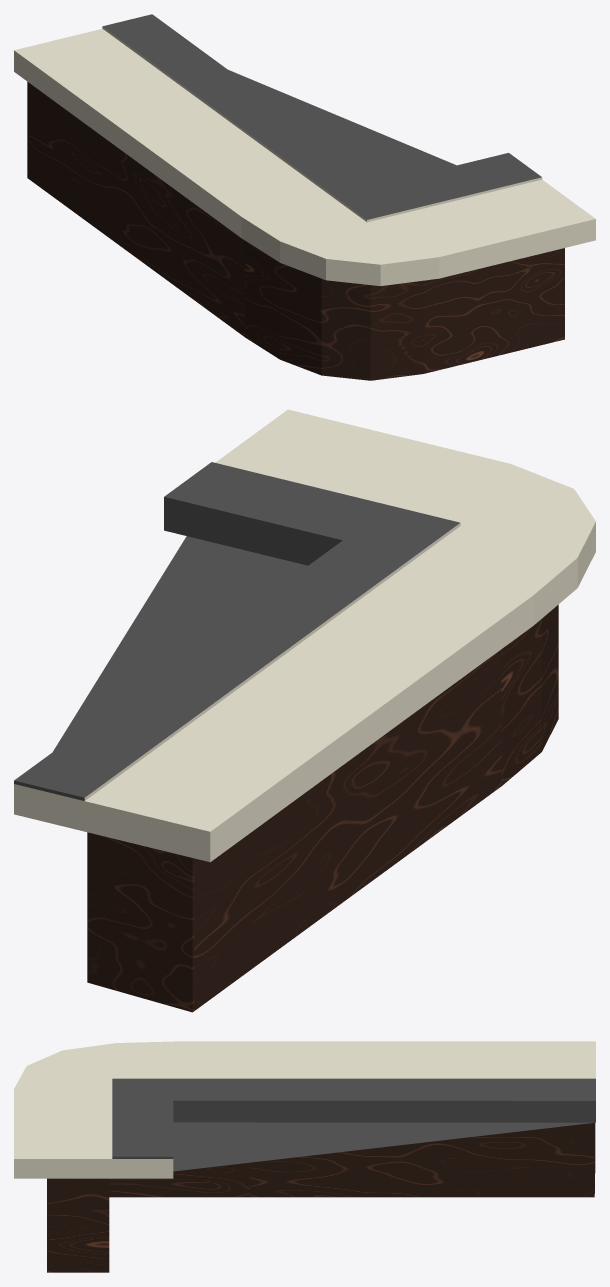
Rendered from bar table.fbx.
The picture shows the model from 3 angles, top to bottom: view 1: azimuth 30°, elevation 25°; view 2: azimuth 150°, elevation 25°; view 3: azimuth 270°, elevation 25°; orthographic projection. The views are drawn at different scales.
Visible parts, largest first — view 1: bar.001; view 2: bar.001; view 3: bar.001.
Boxes of the visible parts, left/top/right/bottom form: bar.001: left=14, top=14, right=595, bottom=380; bar.001: left=14, top=409, right=595, bottom=1012; bar.001: left=14, top=1041, right=595, bottom=1272.
Bounding box in the file's own units: 453 × 218 × 948.
